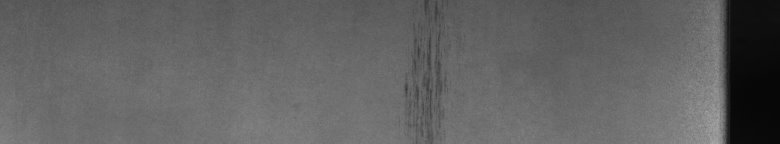ka: (401, 4, 451, 136)
